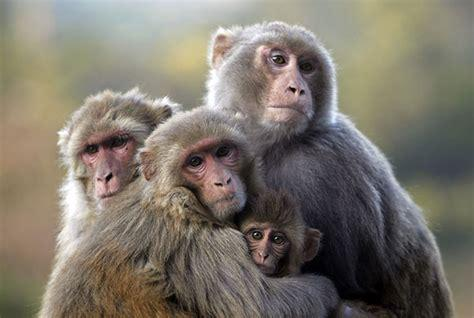monkey: (212, 23, 451, 318), (44, 106, 336, 318), (64, 91, 175, 231), (236, 187, 318, 278)
